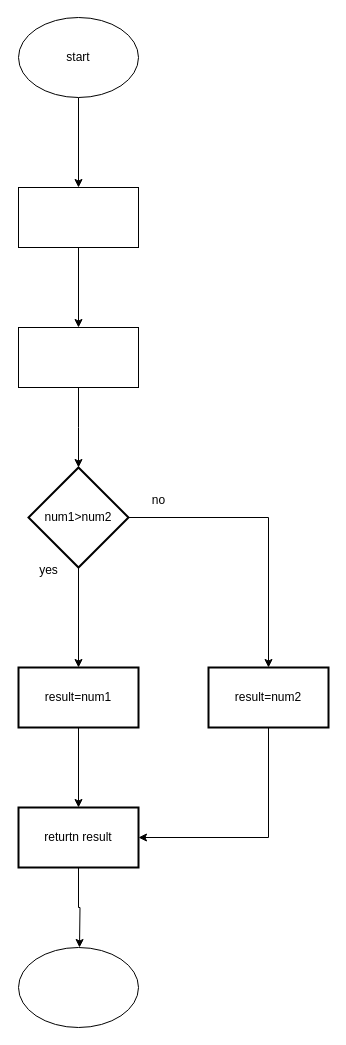
This 346x1045 diagram has some shape labels left out. Each missing label, with the centre of its shape:
"end" goes at point (78, 987).
"num1=stdin" goes at point (78, 217).
"num2=stdin" goes at point (78, 357).
